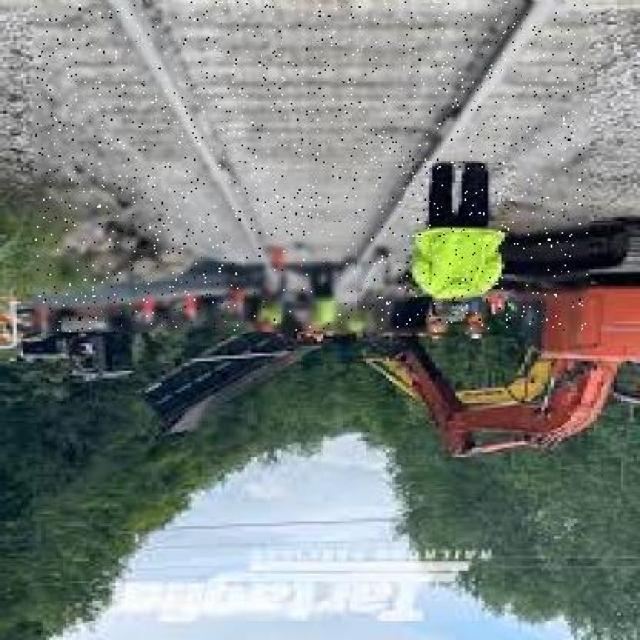danger: (404, 160, 516, 323), (244, 236, 356, 330)
rail: (35, 2, 588, 332)
